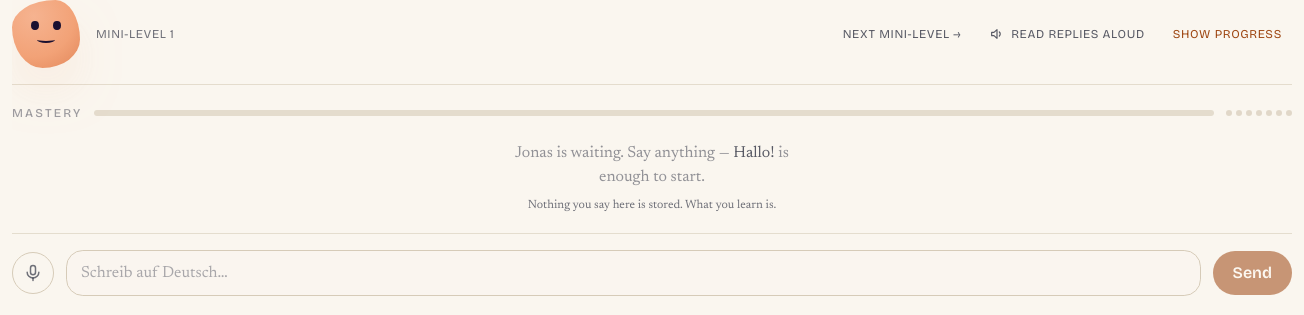
Test case: speaking to the tutor › adds to what the learner had already typed
The image size is (1304, 315).
Type "Mir geht es gut" into the field named "your message in german".
click(633, 273); type("Mir geht es gut")  # box [66,250,1201,296]
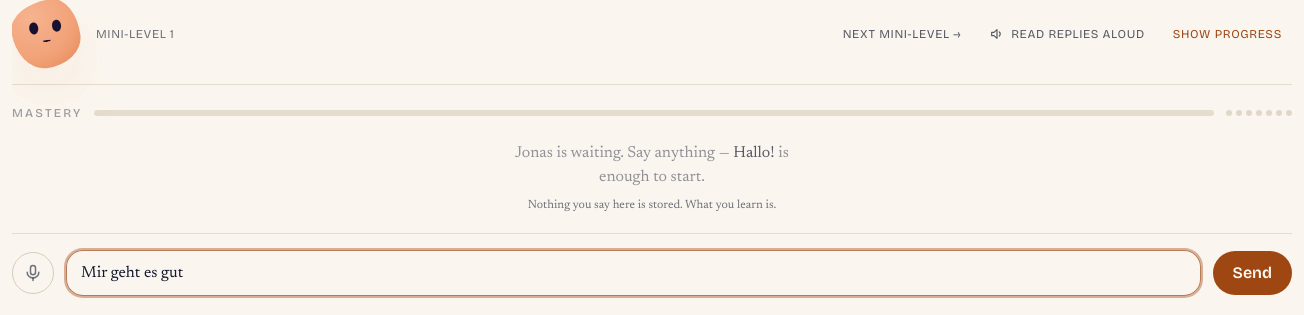
Click the button named "speak your message".
click(33, 273)  # box [12,252,54,294]
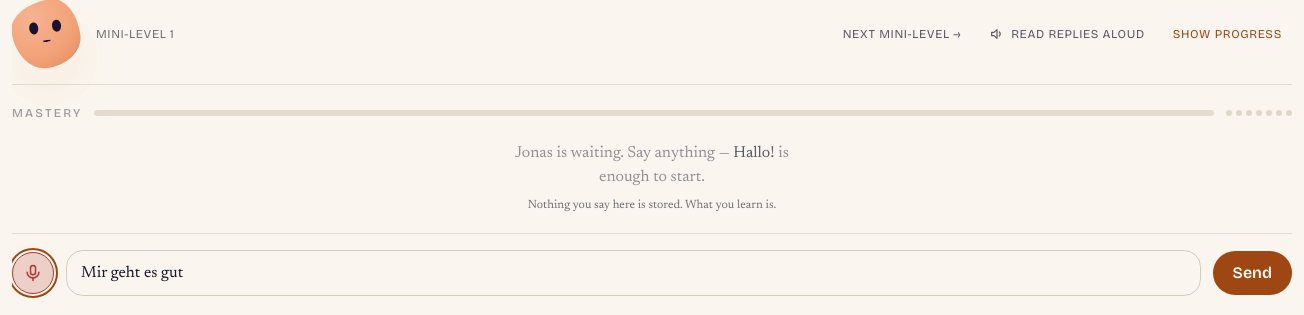
Click the button named "stop recording".
click(33, 273)  # box [12,252,54,294]
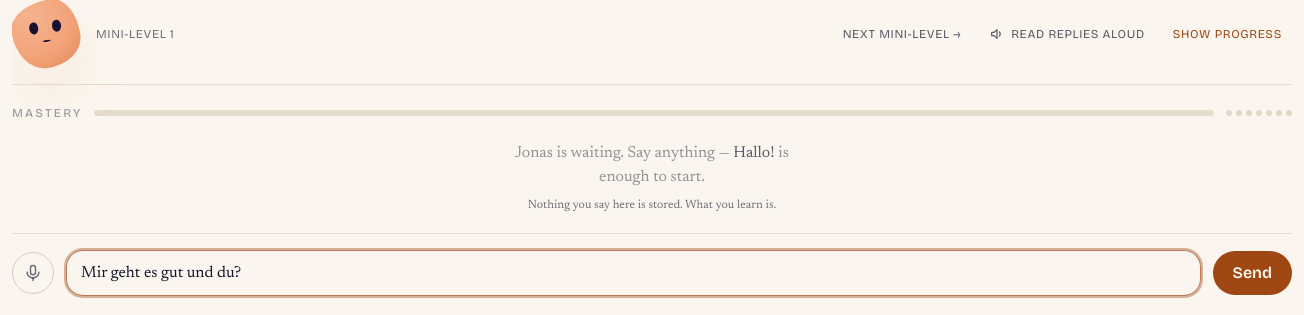
Result: the field named "your message in german" holds "Mir geht es gut und du?" at [66,250,1201,296]
